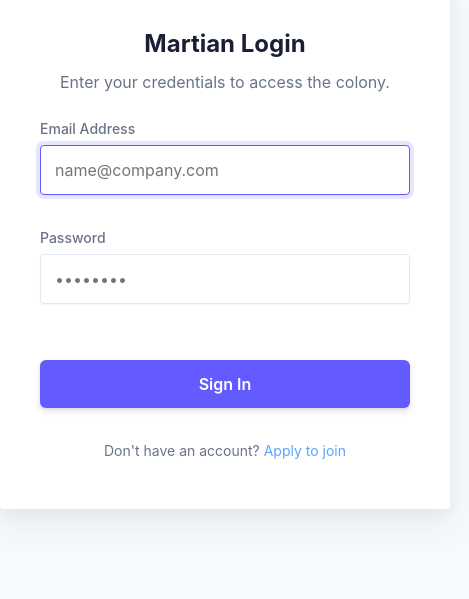
it: LoginForm › shows validation errors for empty submission
This screenshot has width=469, height=599.
Click the button "Sign In" at [225, 384], box [40,360,410,408]
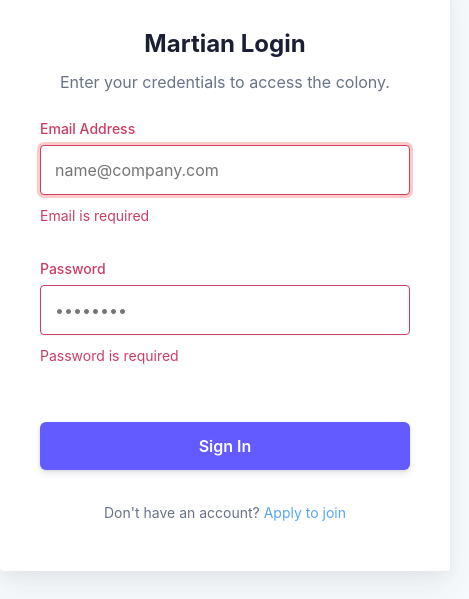
Expected: the text "Email is required" is shown, [40,207,149,224]
Expected: the text "Password is required" is shown, [40,347,179,364]
